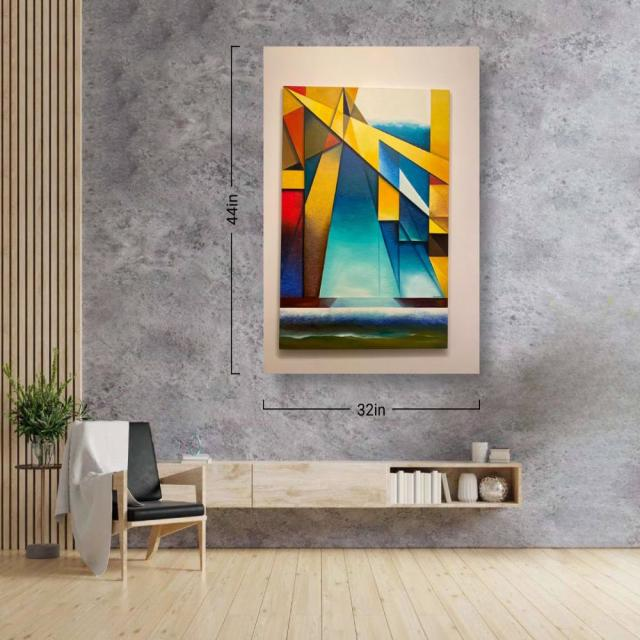painting: (279, 84, 450, 351)
